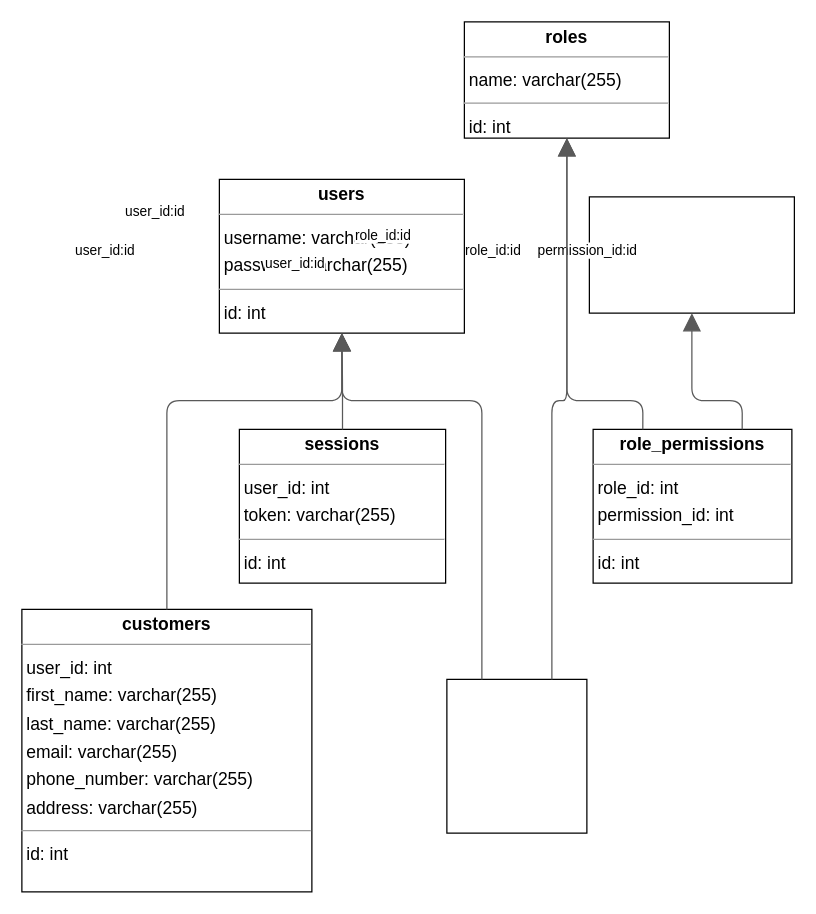
The diagram is 816 pixels wide and 914 high, and some of its shapes have lost their labels. Here are the shapes that lost their labels. From the top down, the centre of each, then its label:
point (691, 254): permissions name: varchar(255) id: int
point (516, 755): user_roles user_id: int role_id: int id: int
